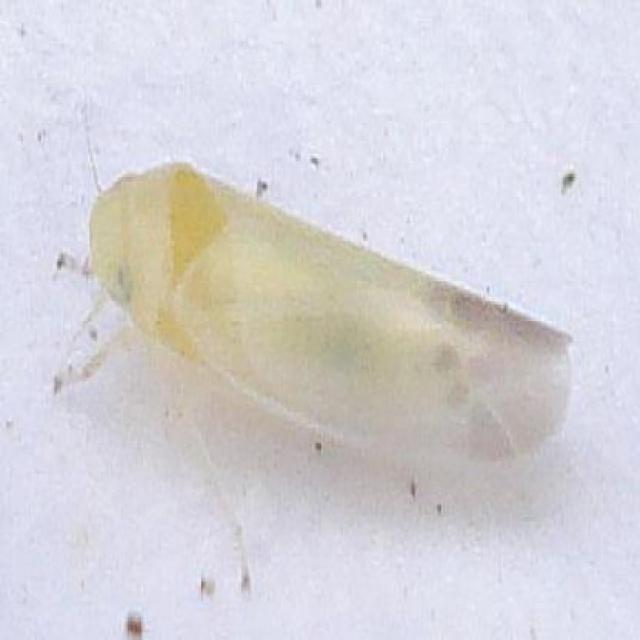green-leafhopper: (50, 160, 579, 592)
